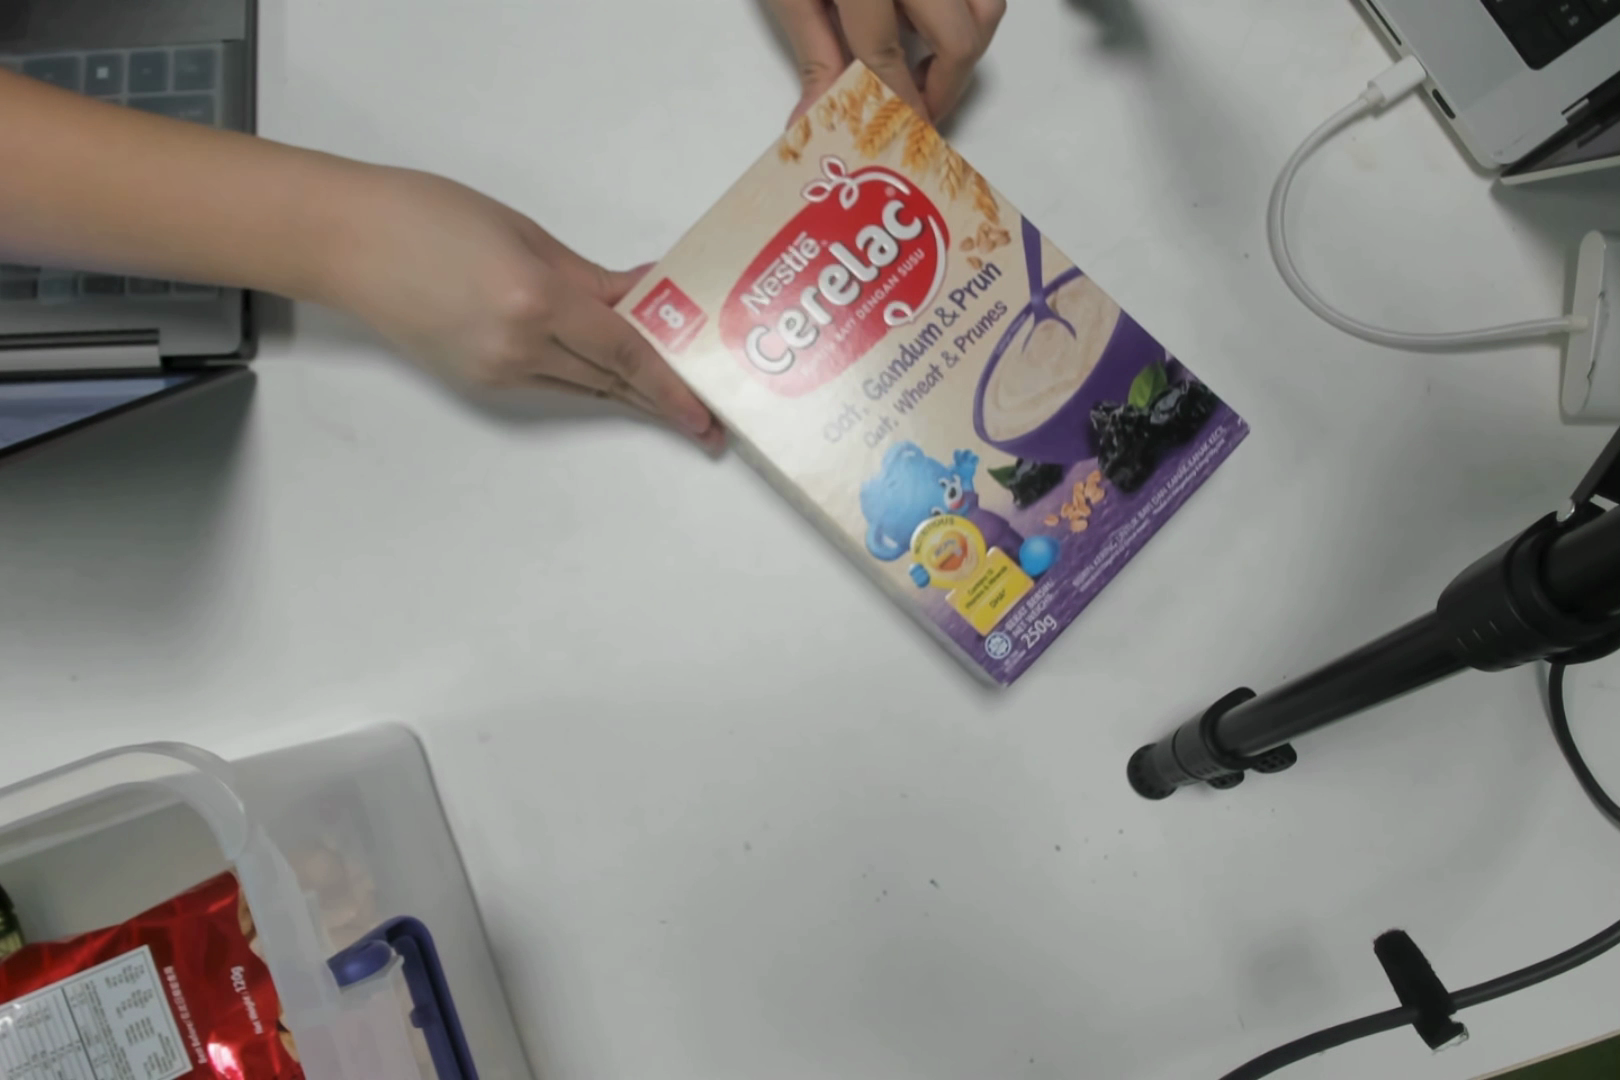d: (697, 115, 1204, 680)
